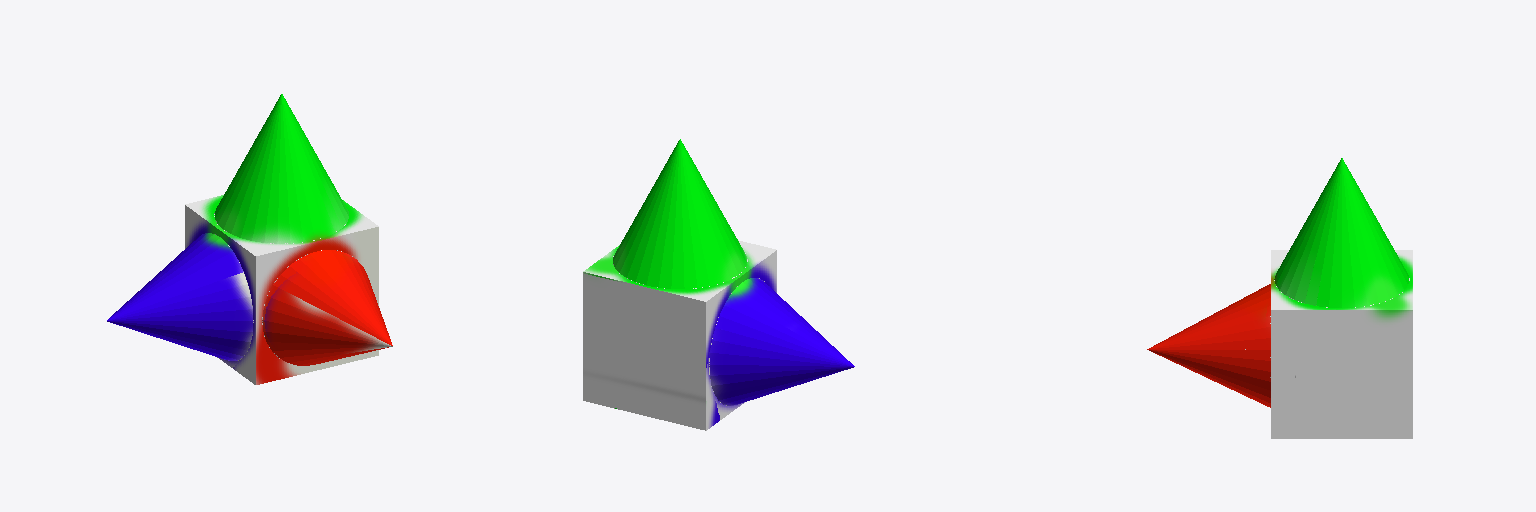
3 views of the same model, side by side, from view 1: azimuth 30°, elevation 25°; view 2: azimuth 150°, elevation 25°; view 3: azimuth 270°, elevation 25° (orthographic).
Visible parts, largest first — view 1: Cube; view 2: Cube; view 3: Cube.
Part boxes in pixels (x1,y1,x2,y2): Cube: (107, 94, 392, 384); Cube: (583, 139, 854, 430); Cube: (1147, 158, 1412, 438).
Bounding box in the file's own units: 3.85 × 3.92 × 3.74.
Materials: 1 (1 with a texture image).